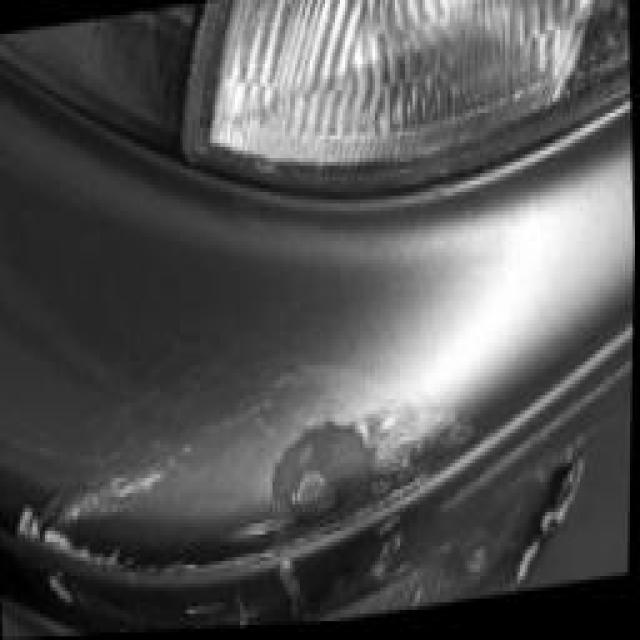Bumper: (0, 196, 608, 640)
